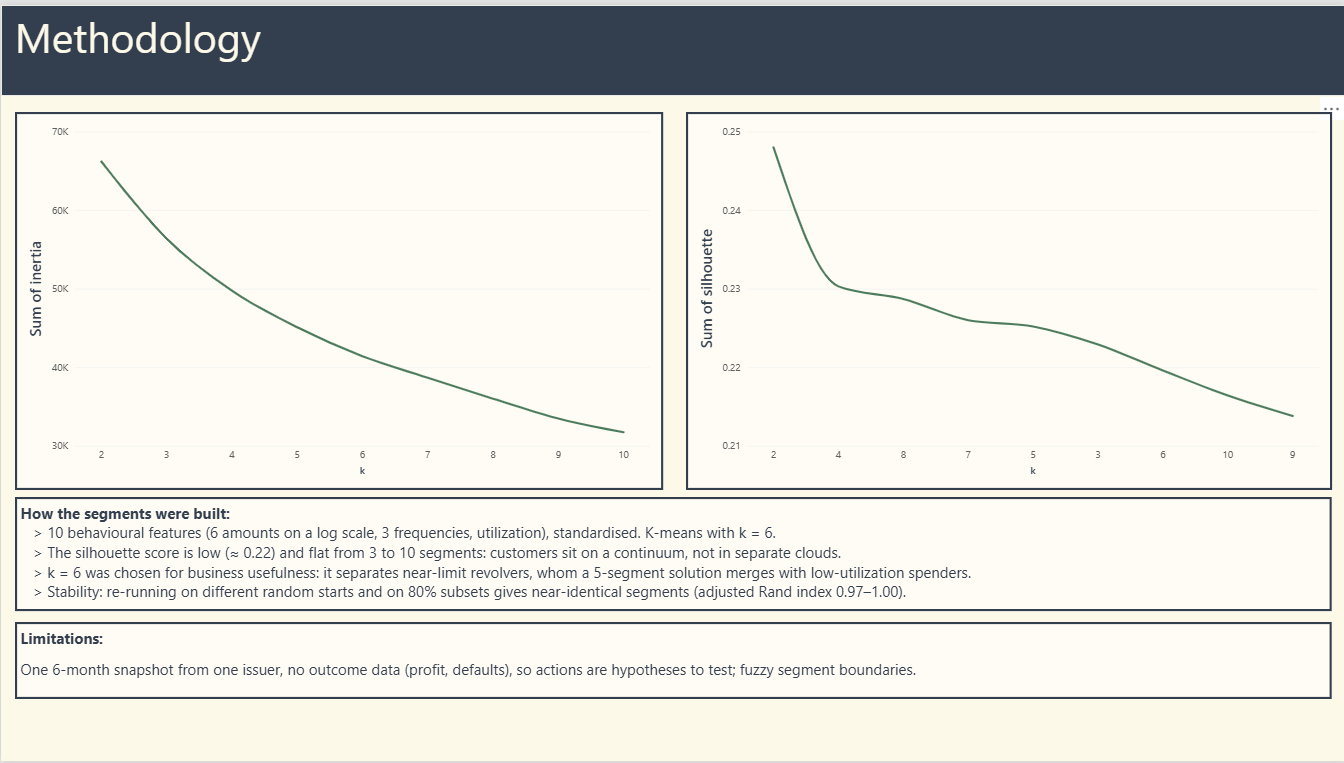

This screenshot's page, from the dashboard's own definition file:
{"tool":"powerbi","page":{"name":"Method","canvas":[1920,1080],"ordinal":4},"visuals":[{"type":"textbox","box":[0,0,1920,130],"z":0},{"type":"lineChart","fields":{"Category":["k_selection.k"],"Y":["Sum(k_selection.inertia)"]},"box":[20,152.9,925.7,540],"z":1000},{"type":"lineChart","fields":{"Category":["k_selection.k"],"Y":["Sum(k_selection.silhouette)"]},"box":[978.6,152.9,922.9,540],"z":1001},{"type":"textbox","box":[20,702.9,1881.4,162.9],"z":1002},{"type":"textbox","box":[20,881.4,1881.4,110],"z":1003}]}

Visuals, with their boxes in screenshot pixels (x1, y1, x2, y2), scaled from the page's 1920x1080 canvas onto the 1344x763 screenshot:
textbox: [0, 0, 1343, 92]
lineChart - k_selection.k x Sum(k_selection.inertia): [14, 108, 662, 490]
lineChart - k_selection.k x Sum(k_selection.silhouette): [685, 108, 1331, 490]
textbox: [14, 497, 1331, 612]
textbox: [14, 623, 1331, 700]
